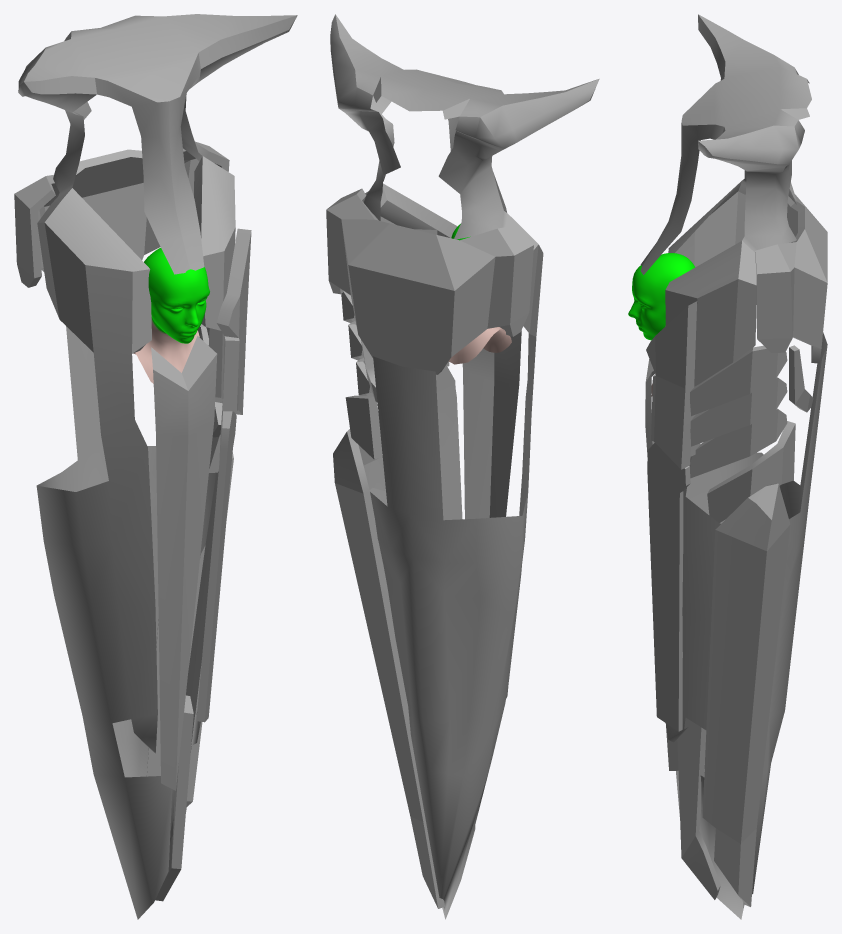
Rendered from zyra boss.fbx.
3 views of the same model, side by side, from view 1: azimuth 30°, elevation 25°; view 2: azimuth 150°, elevation 25°; view 3: azimuth 270°, elevation 25° (orthographic). The views are drawn at different scales.
Visible parts, largest first — view 1: polySurface1, polySurface99, polySurface101, polySurface90, polySurface91, polySurface102, polySurface98, polySurface100; view 2: polySurface1, polySurface99, polySurface98, polySurface101, polySurface91, polySurface97, polySurface90; view 3: polySurface1, polySurface98, polySurface91, polySurface99, polySurface101, polySurface102, polySurface100, polySurface97, polySurface93, polySurface94, polySurface95, polySurface90 (+1 smaller).
Part boxes in pixels (bbox=[...]): polySurface1: bbox=[18, 14, 297, 919]; polySurface99: bbox=[14, 141, 229, 287]; polySurface101: bbox=[194, 156, 235, 403]; polySurface90: bbox=[133, 247, 209, 383]; polySurface91: bbox=[196, 411, 236, 722]; polySurface102: bbox=[216, 228, 251, 414]; polySurface98: bbox=[146, 452, 233, 841]; polySurface100: bbox=[155, 695, 193, 901]; polySurface1: bbox=[330, 14, 599, 919]; polySurface99: bbox=[326, 188, 533, 374]; polySurface98: bbox=[333, 429, 444, 908]; polySurface101: bbox=[362, 183, 457, 364]; polySurface91: bbox=[440, 390, 462, 520]; polySurface97: bbox=[345, 395, 382, 459]; polySurface90: bbox=[448, 224, 511, 364]; polySurface1: bbox=[640, 14, 827, 919]; polySurface98: bbox=[702, 483, 790, 906]; polySurface91: bbox=[647, 443, 690, 731]; polySurface99: bbox=[755, 182, 827, 363]; polySurface101: bbox=[665, 241, 756, 456]; polySurface102: bbox=[646, 301, 697, 469]; polySurface100: bbox=[677, 718, 720, 899]; polySurface97: bbox=[707, 421, 795, 522]; polySurface93: bbox=[690, 345, 787, 416]; polySurface94: bbox=[690, 377, 787, 446]; polySurface95: bbox=[690, 408, 787, 478]; polySurface90: bbox=[628, 253, 695, 396].
Size of the model in its own units: 31.14 by 96.49 by 20.69.
